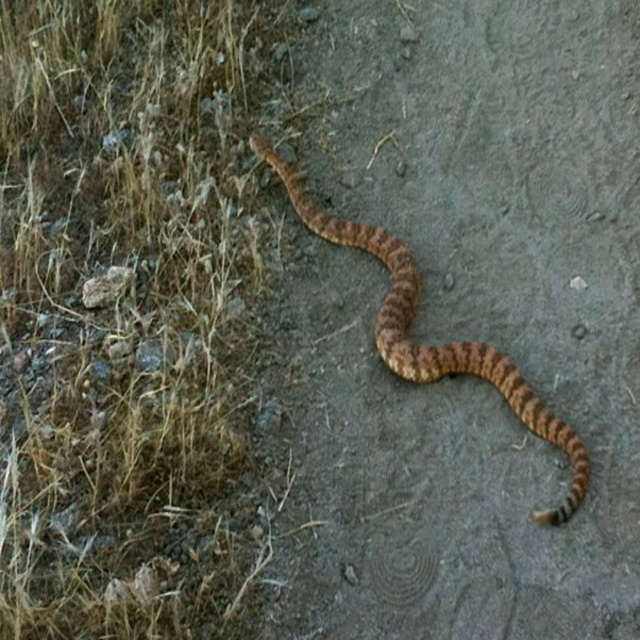Snake: (230, 144, 592, 534)
